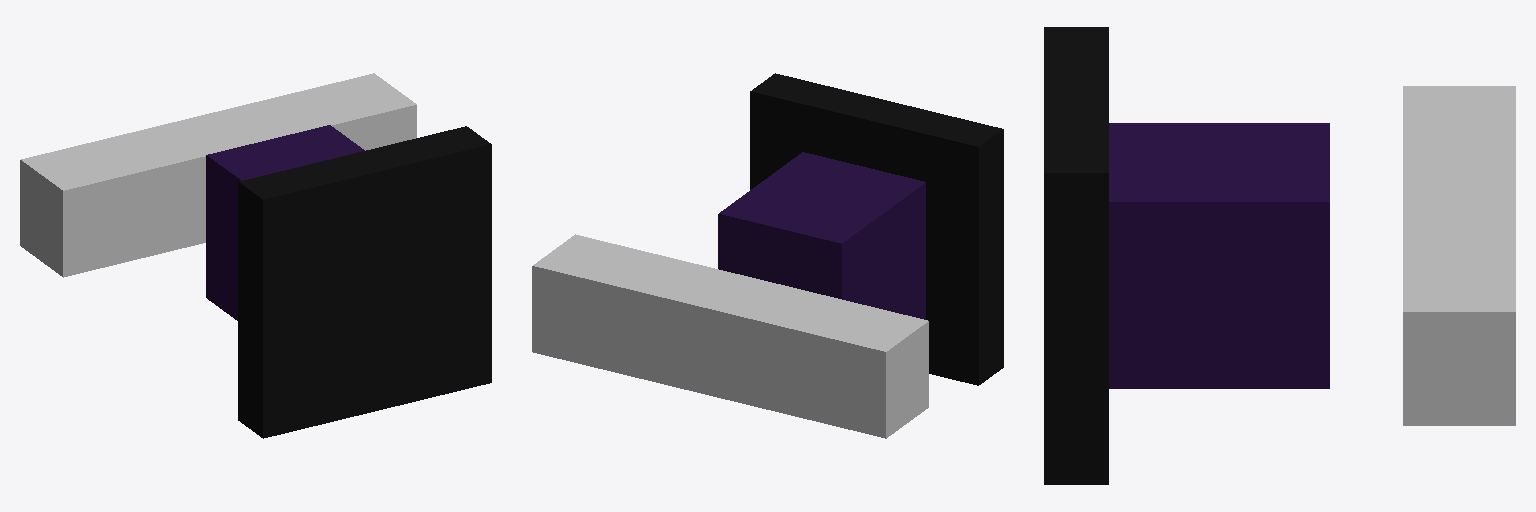
URDF robot description (sensor_suite):
<?xml version="1.0"?>
<robot name="sensor_suite">
    <!-- A simplified, non-xacro version of sensor_suite.urdf -->

    <!-- Base Link -->
    <link name="base_link">
        <visual>
            <origin xyz="0 0 0" rpy="0 0 0"/>
            <geometry>
                <box size="0.08 0.015 0.08"/>  <!-- Approximate size, adjust as needed -->
            </geometry>
            <material name="black">
                <color rgba="0.1 0.1 0.1 1"/>
            </material>
        </visual>
    </link>

    <!-- LIDAR Link (SF45-B) -->
    <link name="lidar_link">
        <visual>
            <origin xyz="0 0 0" rpy="0 0 0"/>
            <geometry>
                <box size="0.048 0.0512 0.0433"/>
            </geometry>
            <material name="dark_purple">
                <color rgba="0.2 0.1 0.3 1"/>
            </material>
        </visual>
    </link>

    <!-- LIDAR Joint -->
    <joint name="lidar_joint" type="fixed">
        <parent link="base_link"/>
        <child link="lidar_link"/>
        <origin xyz="0 0.0331 0" rpy="0 -1.5708 0"/>  <!-- facing downwards (-1.5708 rad = -90 deg) -->
    </joint>

    <!-- RGB-D Camera Link (RealSense D456) -->
    <link name="camera_link">
        <visual>
            <origin xyz="0 0 0" rpy="0 0 0"/>
            <geometry>
                <box size="0.124 0.026 0.029"/>
            </geometry>
            <material name="silver">
                <color rgba="0.8 0.8 0.8 1"/>
            </material>
        </visual>
    </link>

    <!-- RGB-D Camera Joint -->
    <joint name="camera_joint" type="fixed">
        <parent link="base_link"/>
        <child link="camera_link"/>
        <origin xyz="0 0.0887 0" rpy="0 0 3.14159"/>  <!-- upsidedown/flipped (3.14159 rad = 180 deg) -->
    </joint>
</robot>

--- Facts derived from the render (not from the file) ---
Views: 3 orthographic renders of the robot side by side, from view 1: azimuth 30°, elevation 25°; view 2: azimuth 150°, elevation 25°; view 3: azimuth 270°, elevation 25°.
Model sensor_suite with 3 links and 2 joints (2 fixed), rooted at base_link, posed every joint at zero.
Visible links, largest first — view 1: base_link, camera_link, lidar_link; view 2: camera_link, base_link, lidar_link; view 3: lidar_link, camera_link, base_link.
Link boxes in pixels (<box>): base_link: <box>238,126,491,438</box>; camera_link: <box>20,73,416,277</box>; lidar_link: <box>206,125,364,320</box>; camera_link: <box>532,234,928,438</box>; base_link: <box>750,73,1003,385</box>; lidar_link: <box>718,152,925,319</box>; lidar_link: <box>1109,123,1329,388</box>; camera_link: <box>1403,86,1515,425</box>; base_link: <box>1044,27,1108,484</box>.
Size in the robot's own frame: 0.124 by 0.1092 by 0.08 metres.
Geometry: primitives only (box / cylinder / sphere), no mesh files.
